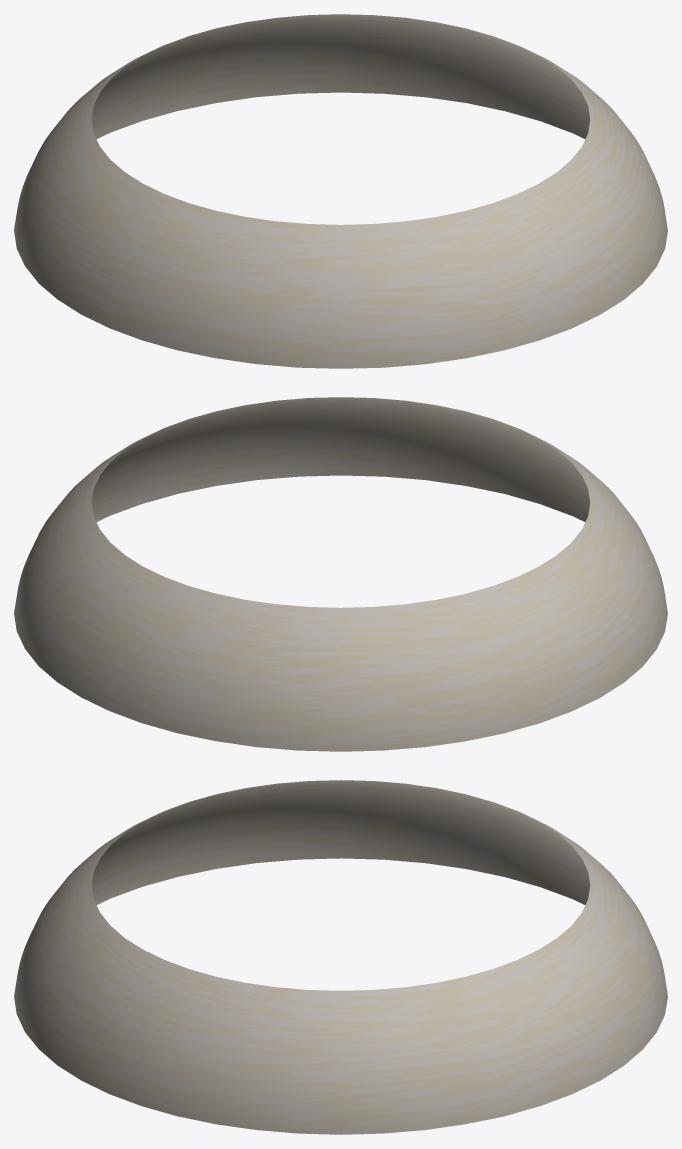
File: original-6.obj
3 views of the same model, one above another, from view 1: azimuth 30°, elevation 25°; view 2: azimuth 150°, elevation 25°; view 3: azimuth 270°, elevation 25° (orthographic).
Parts seen in each view (by area): view 1: #ID265; view 2: #ID265; view 3: #ID265.
Part boxes in pixels (x1,y1,x2,y2): #ID265: [14, 14, 667, 368]; #ID265: [14, 397, 667, 751]; #ID265: [14, 780, 667, 1134].
Bounding box in the file's own units: 0.7318 × 0.1374 × 0.7318.
Materials: 2 (1 with a texture image).
